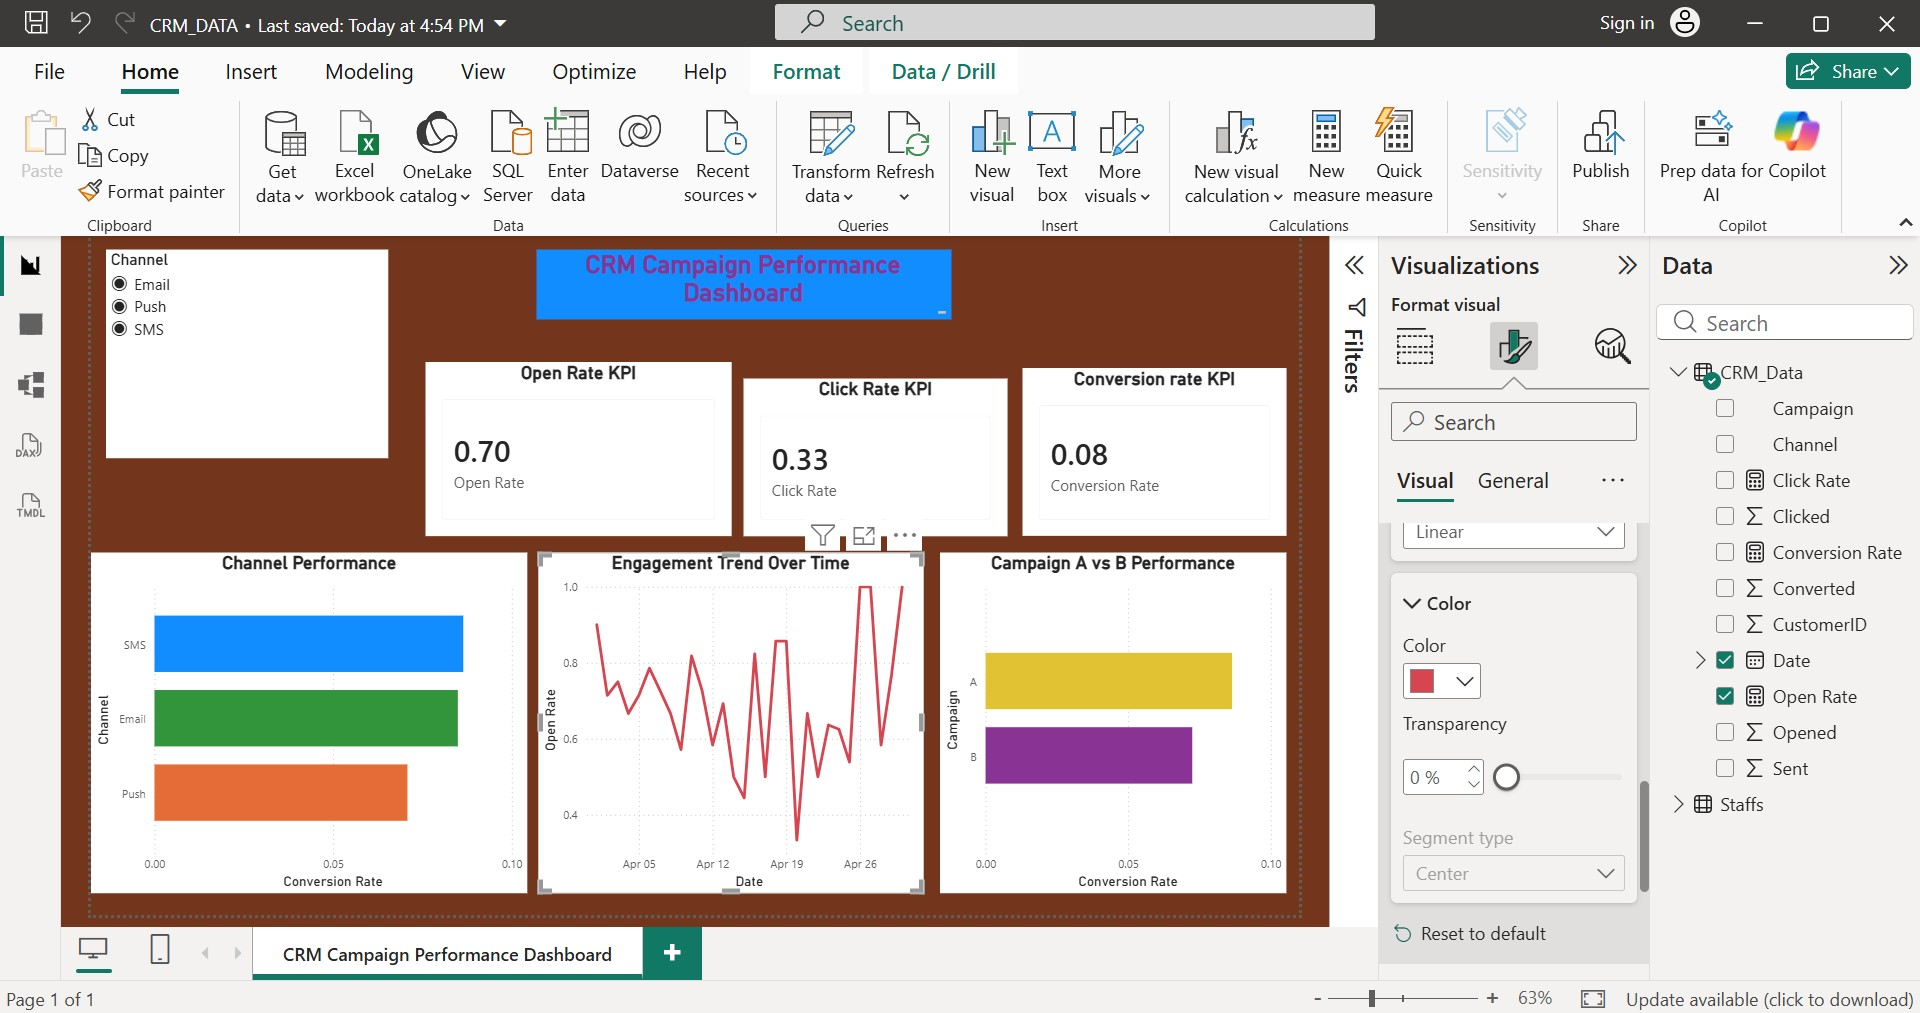

What the dashboard file says about the page in this screenshot:
{"tool":"powerbi","page":{"name":"CRM Campaign Performance Dashboard","canvas":[1280,720],"ordinal":0},"visuals":[{"type":"barChart","title":"Campaign A vs B Performance","fields":{"Y":["CRM_Data.Conversion Rate"],"Category":["CRM_Data.Campaign"]},"box":[900.3,335.6,367.4,361.1],"z":0},{"type":"lineChart","title":"Engagement Trend Over Time","fields":{"Y":["CRM_Data.Open Rate"],"Category":["CRM_Data.Date"]},"box":[474,335.6,408.8,361.1],"z":1},{"type":"clusteredBarChart","title":"Channel Performance","fields":{"Category":["CRM_Data.Channel"],"Y":["CRM_Data.Conversion Rate"]},"box":[0,335.6,462.9,361.1],"z":2},{"type":"cardVisual","title":"Conversion rate KPI","fields":{"Data":["CRM_Data.Conversion Rate"]},"box":[987.8,140,279.9,178.1],"z":3},{"type":"cardVisual","title":"Click Rate KPI","fields":{"Data":["CRM_Data.Click Rate"]},"box":[691.9,151.1,279.9,167],"z":4},{"type":"cardVisual","title":"Open Rate KPI","fields":{"Data":["CRM_Data.Open Rate"]},"box":[354.7,133.6,324.5,184.5],"z":5},{"type":"textbox","title":"CRM Campaign Performance Dashboard","box":[472.4,14.3,439,73.2],"z":6},{"type":"listSlicer","fields":{"Values":["CRM_Data.Channel"]},"box":[15.9,14.3,299,221.1],"z":7}]}

Visuals, with their boxes on the page's 1280x720 design canvas (x1, y1, x2, y2). These are canvas units, not pixel positions in the 1920x1013 screenshot, which may show the page scaled, cropped or inside an application window:
"Campaign A vs B Performance" barChart: [900, 336, 1268, 697]
"Engagement Trend Over Time" lineChart: [474, 336, 883, 697]
"Channel Performance" clusteredBarChart: [0, 336, 463, 697]
"Conversion rate KPI" cardVisual: [988, 140, 1268, 318]
"Click Rate KPI" cardVisual: [692, 151, 972, 318]
"Open Rate KPI" cardVisual: [355, 134, 679, 318]
"CRM Campaign Performance Dashboard" textbox: [472, 14, 911, 88]
listSlicer - CRM_Data.Channel: [16, 14, 315, 235]
